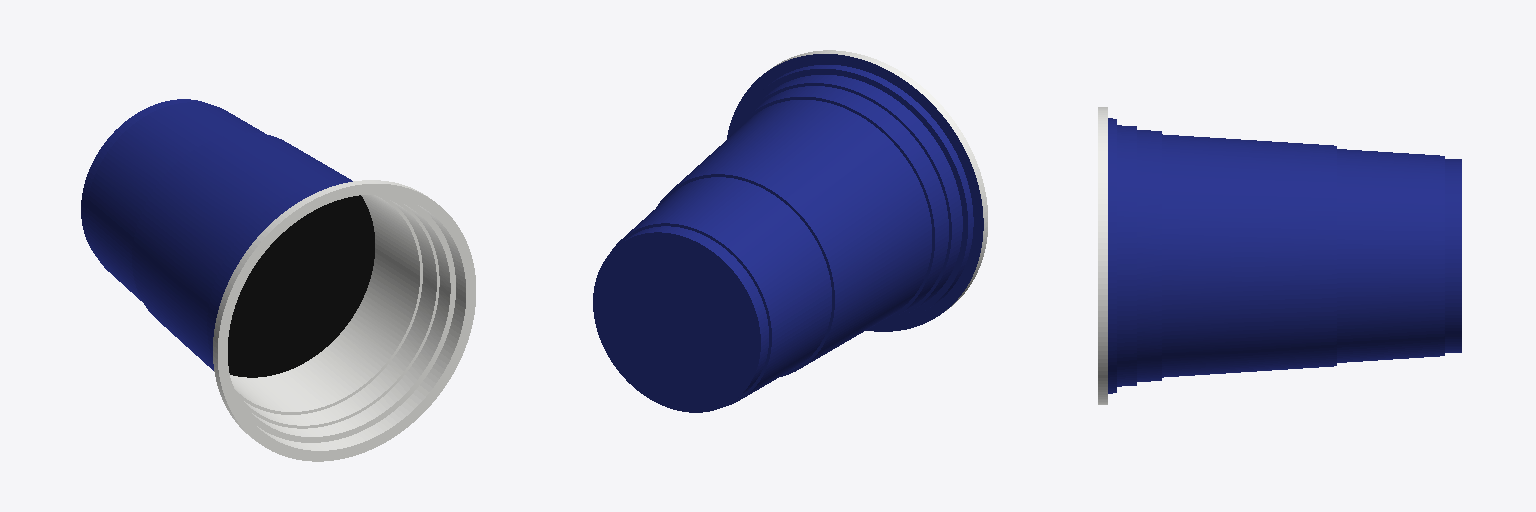
The model's file is cup_blue_filled.obj.
The picture shows the model from 3 angles: view 1: azimuth 30°, elevation 25°; view 2: azimuth 150°, elevation 25°; view 3: azimuth 270°, elevation 25°; orthographic projection.
Parts seen in each view (by area): view 1: Body1; view 2: Body1; view 3: Body1.
Part boxes in pixels (x1,y1,x2,y2): Body1: (81, 99, 475, 461); Body1: (593, 50, 987, 412); Body1: (1098, 107, 1461, 404).
Size of the model in its own units: 0.094 by 0.094 by 0.1145.